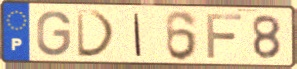6: (164, 9, 200, 63)
8: (250, 13, 283, 61)
D: (75, 9, 118, 59)
F: (205, 12, 245, 60)
G: (35, 9, 73, 58)
I: (133, 11, 144, 58)
